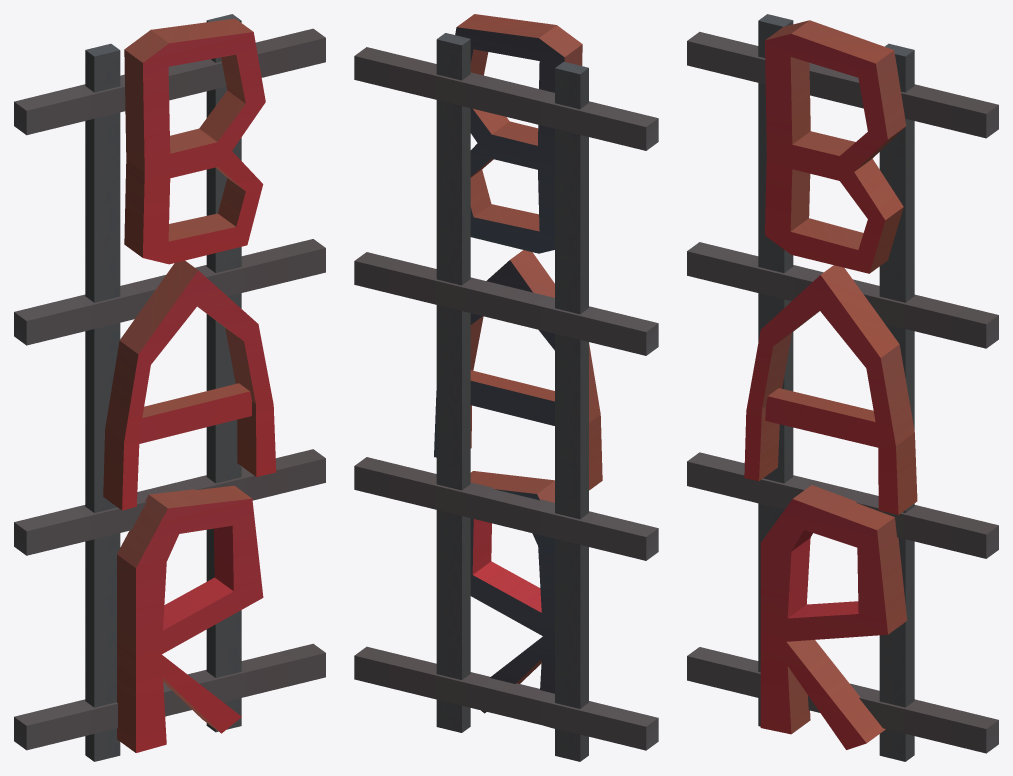
File: SM_Hoarding_06_B.FBX
The picture shows the model from 3 angles, left to right: view 1: azimuth 30°, elevation 25°; view 2: azimuth 150°, elevation 25°; view 3: azimuth 330°, elevation 25°; orthographic projection. The views are drawn at different scales.
Visible parts, largest first — view 1: SM_Hoarding_06_B; view 2: SM_Hoarding_06_B; view 3: SM_Hoarding_06_B.
Boxes of the visible parts, <box> form: SM_Hoarding_06_B: <box>14,14,325,761</box>; SM_Hoarding_06_B: <box>354,14,658,761</box>; SM_Hoarding_06_B: <box>687,14,998,761</box>.
Size of what is drawn, in the model's own units: 268 by 49.3 by 617.
